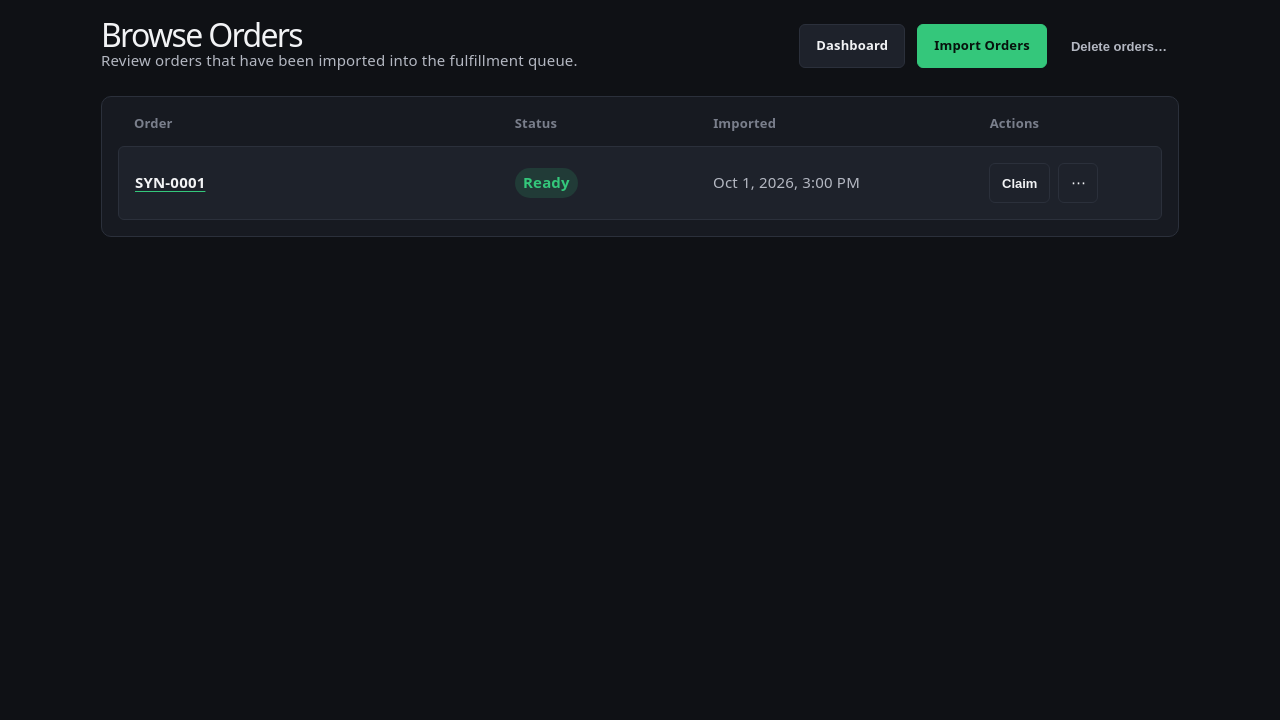
OrdersPage deletion › removes the row and says so when the order was already deleted
What coordinates should you click on to do the following:
click the button named "actions"
I would click on:
 (1078, 183)
Its box is 1058,163 -> 1098,203.
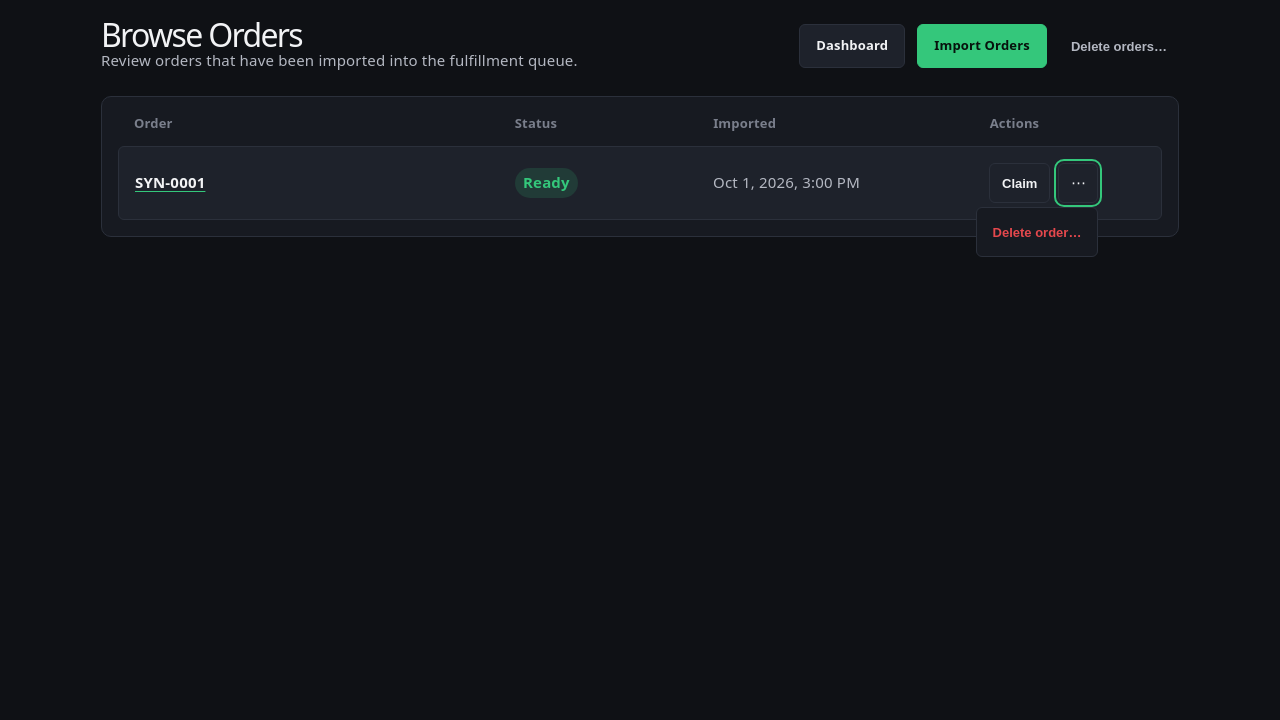
What coordinates should you click on to do the following:
click the menu item "Delete order…"
I would click on:
 (1037, 232)
Its box is 980,212 -> 1093,252.
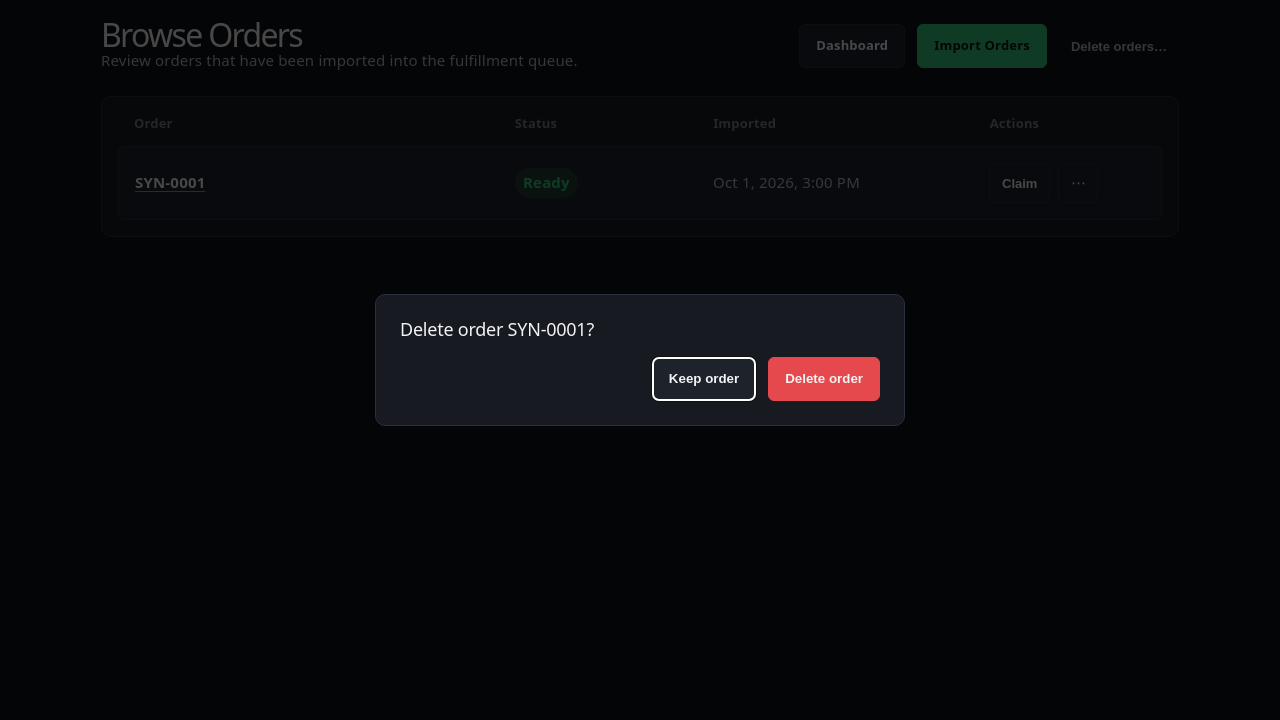
What coordinates should you click on to do the following:
click the button "Delete order"
I would click on:
 (824, 379)
Its box is 768,357 -> 880,401.
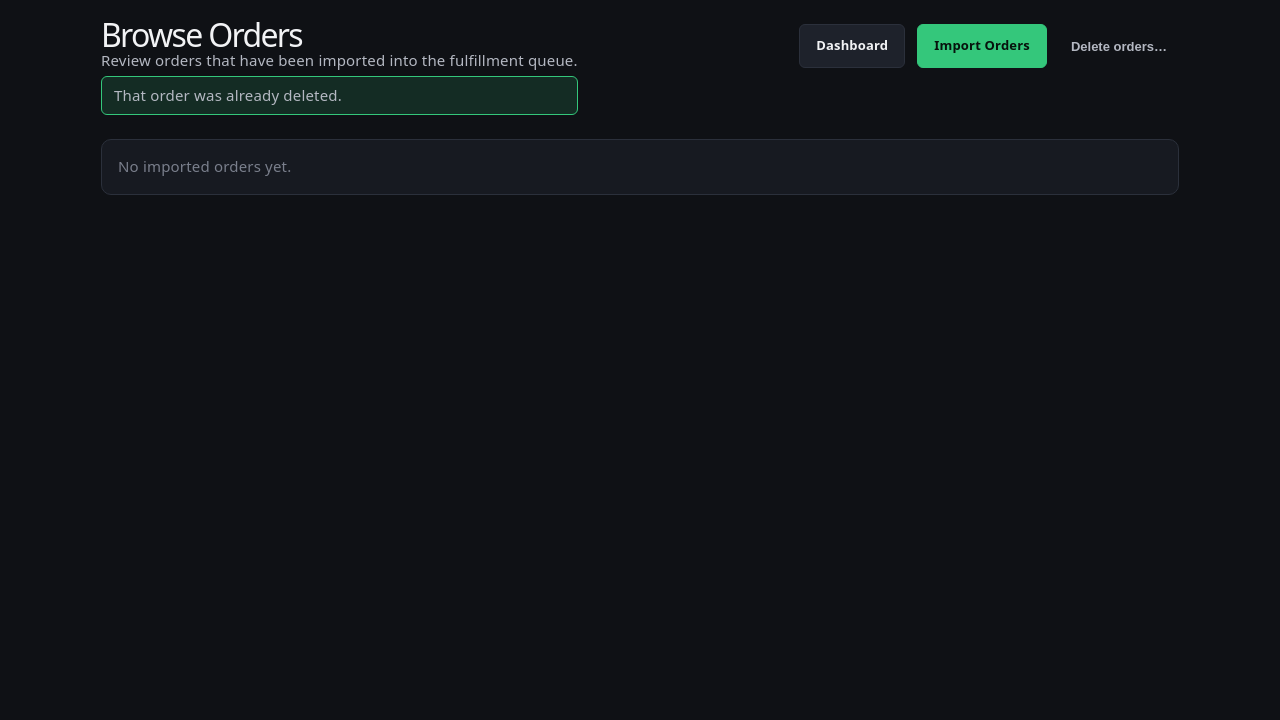
Result: the text "That order was already deleted." is shown at 101,76 -> 578,115
Result: the link "SYN-0001" is gone
